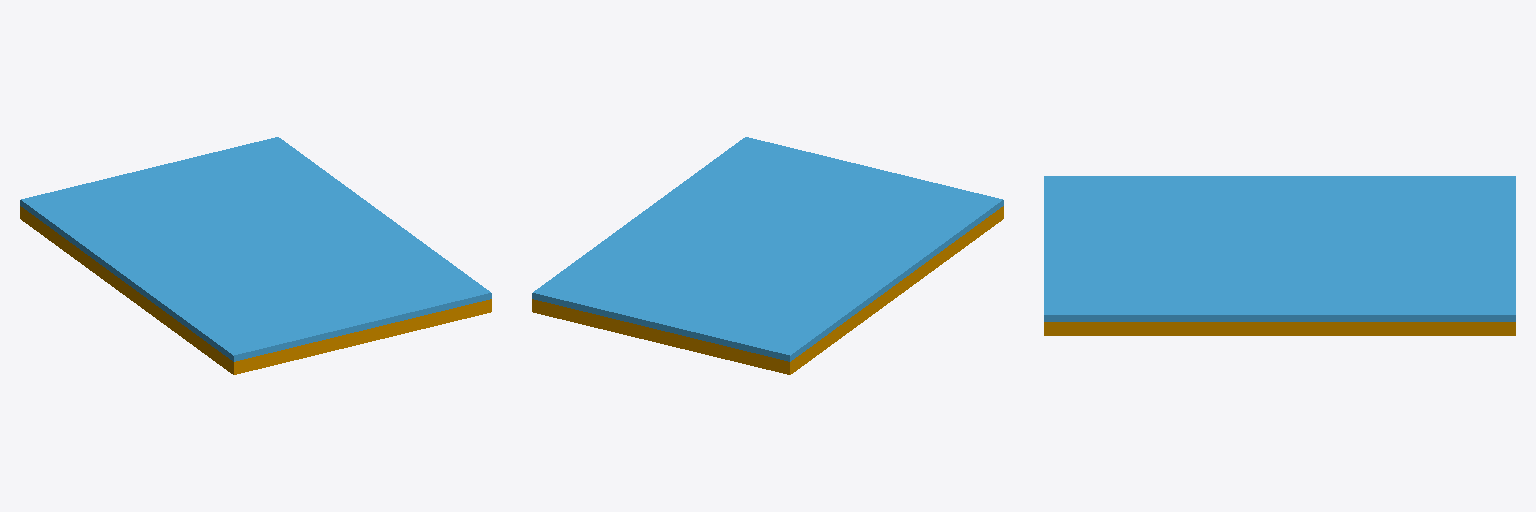
URDF robot description (laptop_spec):
<?xml version="1.0"?>
<!-- A hand-written laptop from the published dimensions: the hinge on the back edge, lid opens with +q, 0..120 deg. -->
<robot name="laptop_spec">
  <!-- Frame: origin at the base's bottom centre, x toward the front edge, y left, z up.
       Sizes: 13" MacBook Pro spec, 304.1 x 212.4 mm; base 10.5 mm, lid 5 mm. -->
  <link name="base">
    <inertial><origin xyz="0 0 0.00525"/><mass value="0.9"/><inertia ixx="0.0034" iyy="0.0069" izz="0.0103" ixy="0" ixz="0" iyz="0"/></inertial>
    <visual><origin xyz="0 0 0.00525"/><geometry><box size="0.2124 0.3041 0.0105"/></geometry></visual>
    <collision><origin xyz="0 0 0.00525"/><geometry><box size="0.2124 0.3041 0.0105"/></geometry></collision>
  </link>
  <link name="lid">
    <inertial><origin xyz="0.1062 0 0.0025"/><mass value="0.47"/><inertia ixx="0.0036" iyy="0.0018" izz="0.0054" ixy="0" ixz="0" iyz="0"/></inertial>
    <visual><origin xyz="0.1062 0 0.0025"/><geometry><box size="0.2124 0.3041 0.005"/></geometry></visual>
    <collision><origin xyz="0.1062 0 0.0025"/><geometry><box size="0.2124 0.3041 0.005"/></geometry></collision>
  </link>
  <joint name="display_hinge" type="revolute">
    <parent link="base"/>
    <child link="lid"/>
    <origin xyz="-0.1062 0 0.0105" rpy="0 0 0"/>
    <axis xyz="0 -1 0"/>
    <limit lower="0" upper="2.1000" effort="2" velocity="2"/>
  </joint>
</robot>

--- Render facts (derived) ---
3 views of the same robot in one strip: view 1: azimuth 30°, elevation 25°; view 2: azimuth 150°, elevation 25°; view 3: azimuth 270°, elevation 25° (orthographic).
Model laptop_spec with 2 links and 1 joints (1 revolute), rooted at base, posed all joints at 0.
Links seen in each view (by area): view 1: lid, base; view 2: lid, base; view 3: lid, base.
Link boxes in pixels (bbox=[...]): lid: bbox=[20, 137, 491, 361]; base: bbox=[20, 206, 491, 374]; lid: bbox=[532, 137, 1003, 361]; base: bbox=[532, 206, 1003, 374]; lid: bbox=[1044, 176, 1515, 321]; base: bbox=[1044, 322, 1515, 335].
Size in the robot's own frame: 0.2124 by 0.3041 by 0.0155 metres.
Geometry: primitives only (box / cylinder / sphere), no mesh files.
